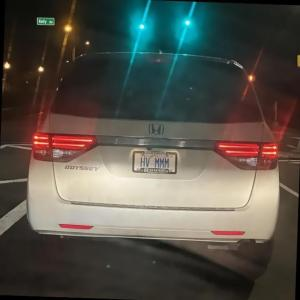Plate: (131, 150, 178, 174)
